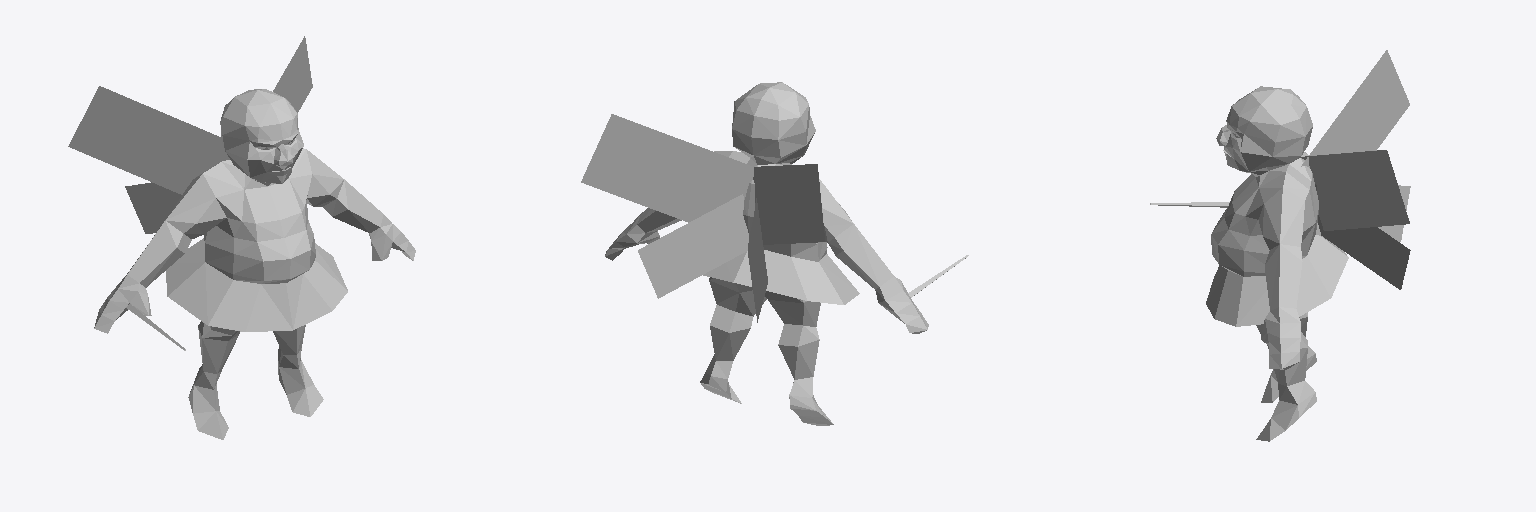
File: CHARACTER_Roy The Save Fairy.obj
3 views of the same model, side by side, from view 1: azimuth 30°, elevation 25°; view 2: azimuth 150°, elevation 25°; view 3: azimuth 270°, elevation 25° (orthographic).
Bounding box in the file's own units: 0.3318 × 0.329 × 0.2332.